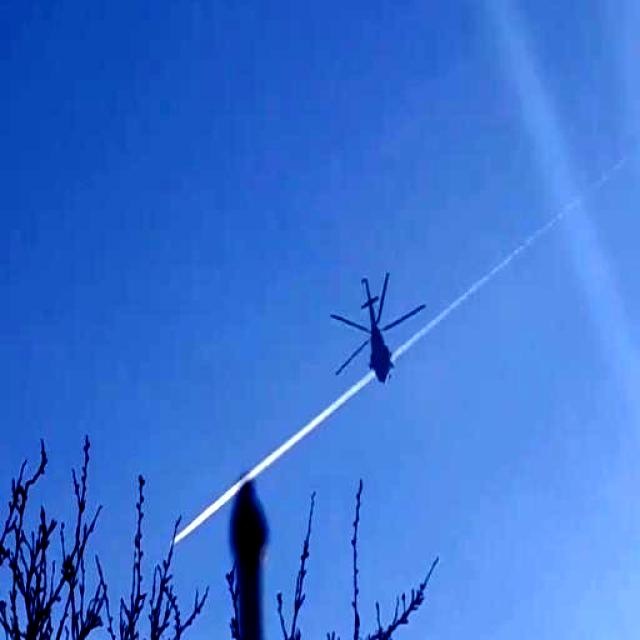drone: (324, 270, 430, 381)
